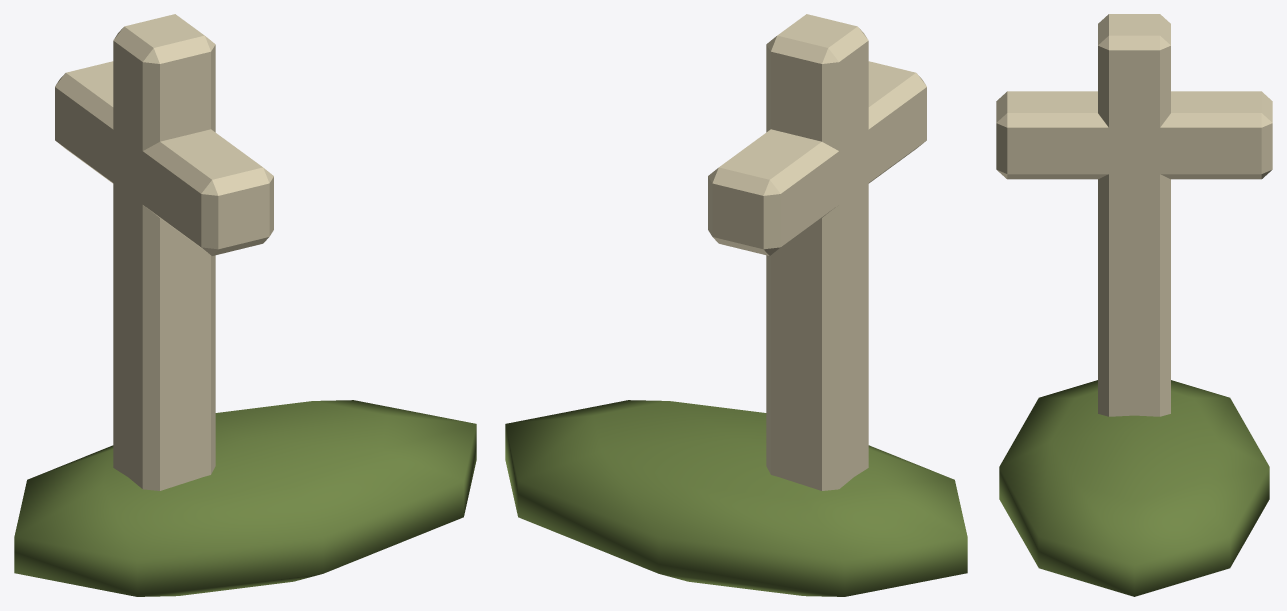
Rendered from prop_grave2_6100.glb.
The picture shows the model from 3 angles, left to right: view 1: azimuth 30°, elevation 25°; view 2: azimuth 150°, elevation 25°; view 3: azimuth 270°, elevation 25°; orthographic projection. The views are drawn at different scales.
Visible parts, largest first — view 1: prop_grave2_6100; view 2: prop_grave2_6100; view 3: prop_grave2_6100.
Part boxes in pixels (bbox=[...]): prop_grave2_6100: bbox=[14, 14, 476, 596]; prop_grave2_6100: bbox=[505, 14, 967, 596]; prop_grave2_6100: bbox=[996, 14, 1272, 596].
Bounding box in the file's own units: 0.5044 × 0.5702 × 0.3006.
1 material, 1 textured.
